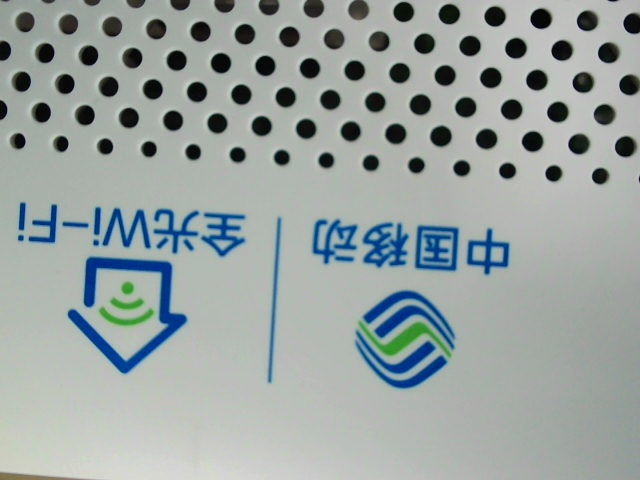BJ_QuanGuangMobile: (5, 183, 511, 395)
